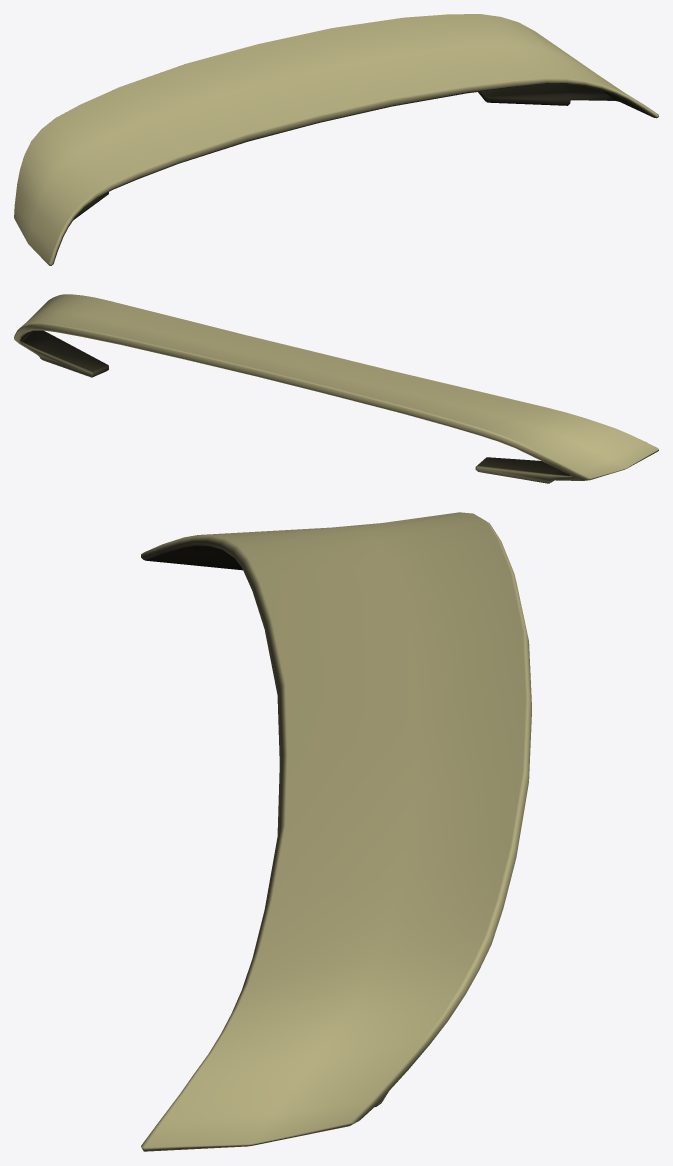
File: Mustang16_Spoiler_04_Duco.fbx
3 views of the same model, one above another, from view 1: azimuth 30°, elevation 25°; view 2: azimuth 150°, elevation 25°; view 3: azimuth 270°, elevation 25° (orthographic). The views are drawn at different scales.
Visible parts, largest first — view 1: Mustang16_Spoiler_04_Duco; view 2: Mustang16_Spoiler_04_Duco; view 3: Mustang16_Spoiler_04_Duco.
Part boxes in pixels (<box>): Mustang16_Spoiler_04_Duco: <box>14,14,658,265</box>; Mustang16_Spoiler_04_Duco: <box>14,294,658,483</box>; Mustang16_Spoiler_04_Duco: <box>141,512,531,1151</box>.
Bounding box in the file's own units: 158 × 20.49 × 43.82.
